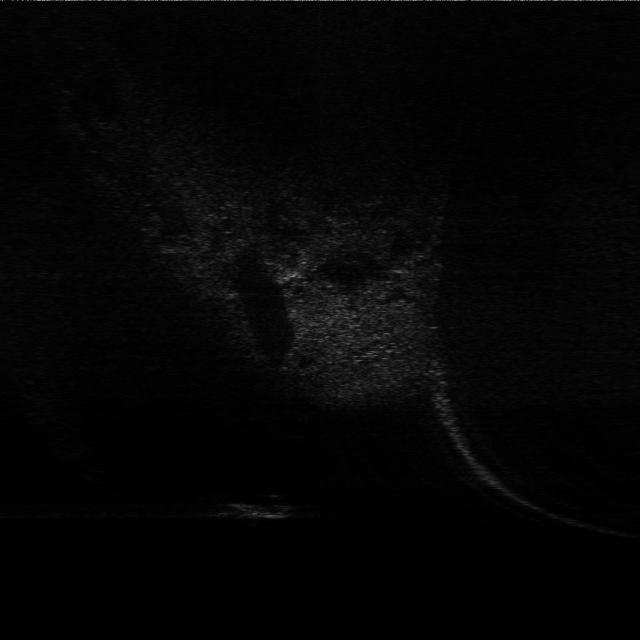square cage: (218, 492, 306, 525)
